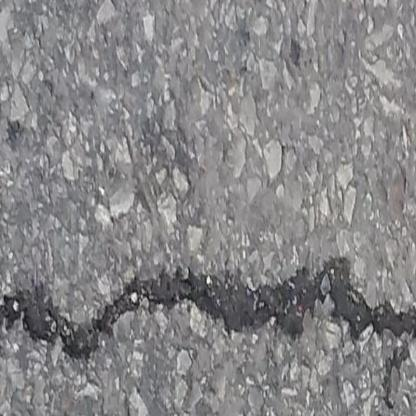Cracks: (0, 256, 416, 380)
